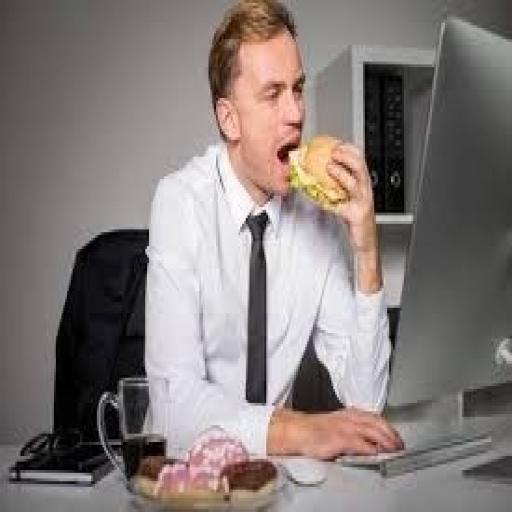eating: (138, 0, 404, 462)
